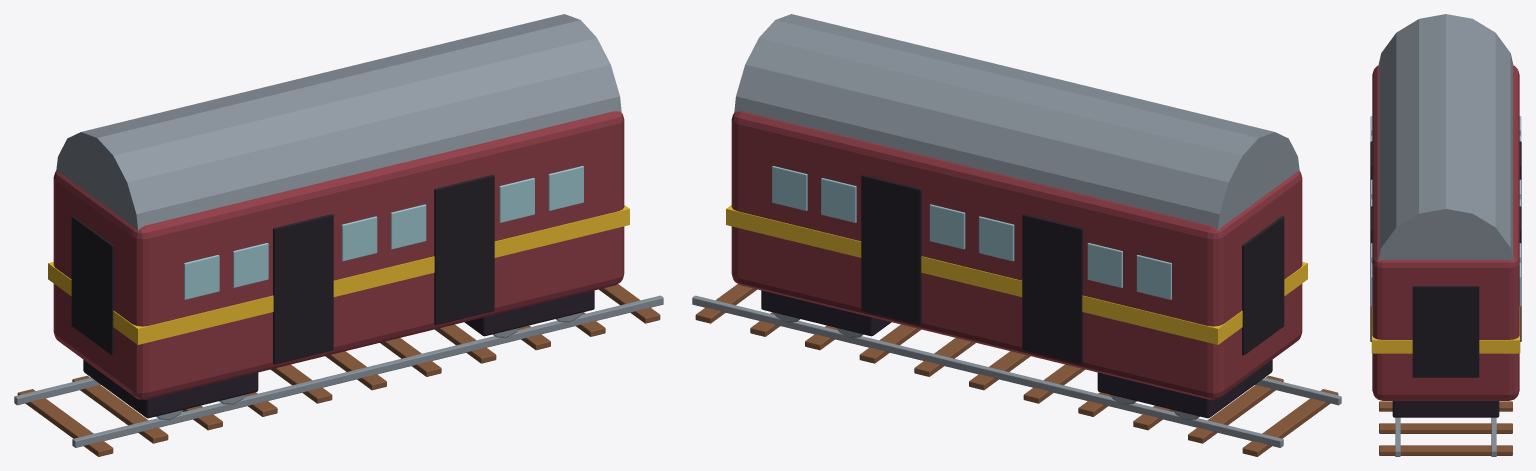
Rendered from local_train.glb.
The picture shows the model from 3 angles, left to right: view 1: azimuth 30°, elevation 25°; view 2: azimuth 150°, elevation 25°; view 3: azimuth 270°, elevation 25°; orthographic projection. The views are drawn at different scales.
Parts seen in each view (by area): view 1: local_train; view 2: local_train; view 3: local_train.
Boxes of the visible parts, <box> form: local_train: <box>14,14,663,456</box>; local_train: <box>692,14,1341,456</box>; local_train: <box>1370,14,1521,456</box>.
Bounding box in the file's own units: 8.4 × 3.82 × 2.26.
